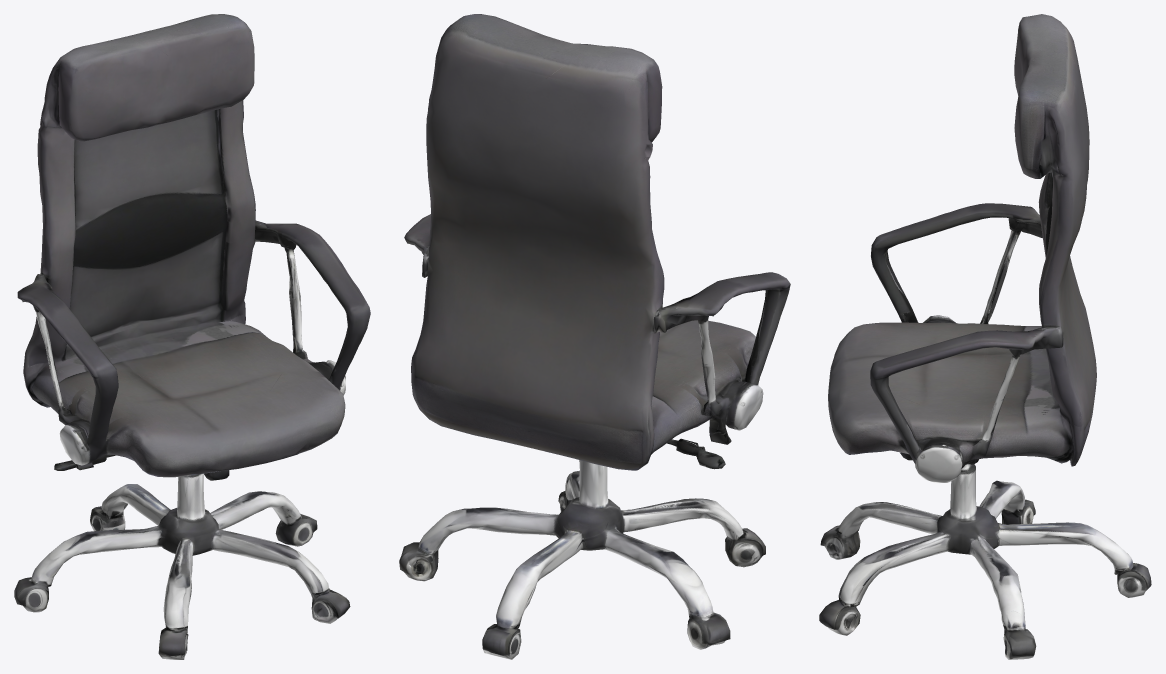
The picture shows the model from 3 angles, left to right: view 1: azimuth 30°, elevation 25°; view 2: azimuth 150°, elevation 25°; view 3: azimuth 270°, elevation 25°; orthographic projection. The views are drawn at different scales.
Parts seen in each view (by area): view 1: Mesh_0; view 2: Mesh_0; view 3: Mesh_0.
Part boxes in pixels (x1,y1,x2,y2): Mesh_0: (14, 14, 370, 659); Mesh_0: (399, 14, 790, 659); Mesh_0: (819, 14, 1151, 659).
Bounding box in the file's own units: 0.707 × 1.2 × 0.6675.
1 material, 1 textured.
